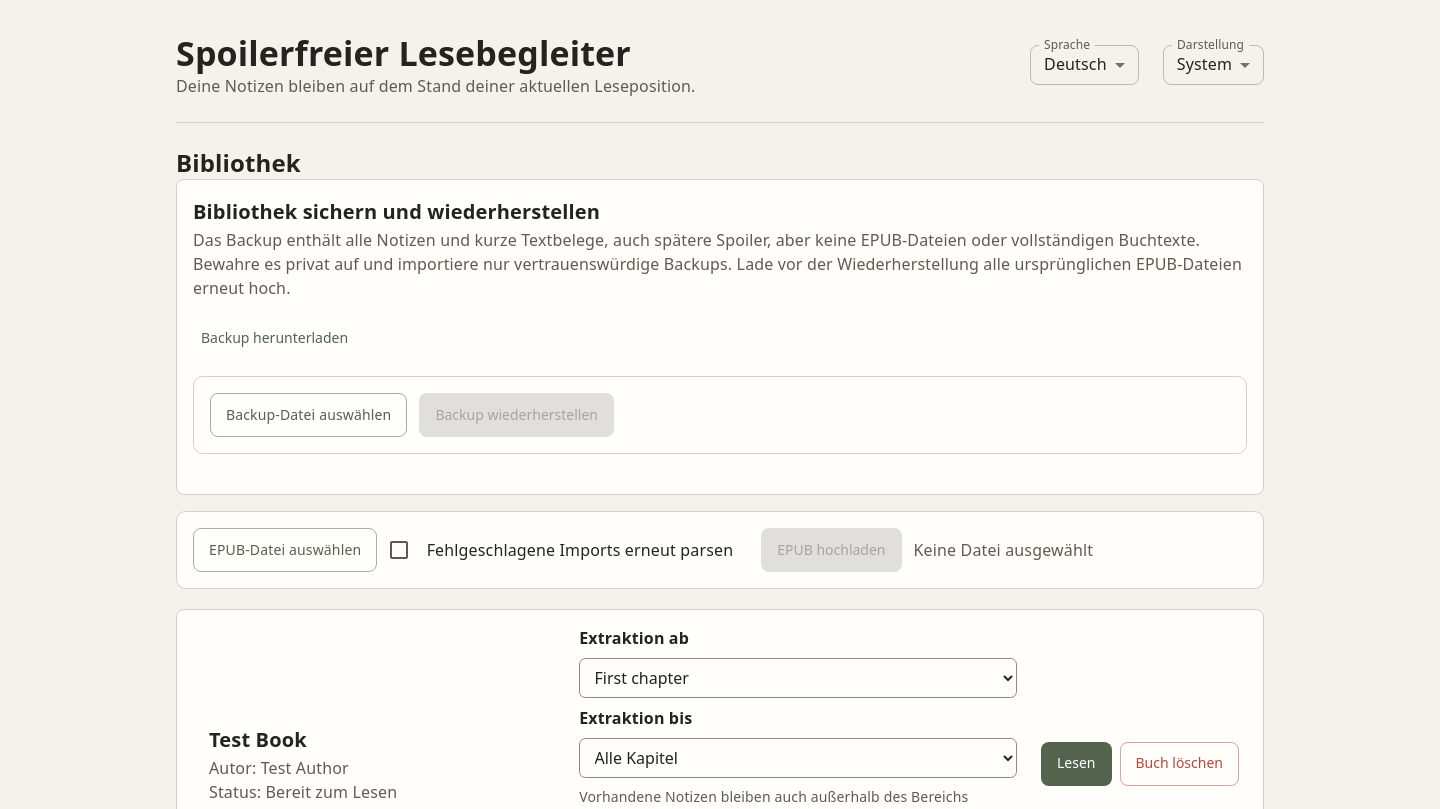
Test case: App › prefills selected text and searches using the selected paragraph position
The image size is (1440, 809).
Click the button "Lesen".
click(1076, 764)  # box [1041, 742, 1112, 786]
(page scrolled)
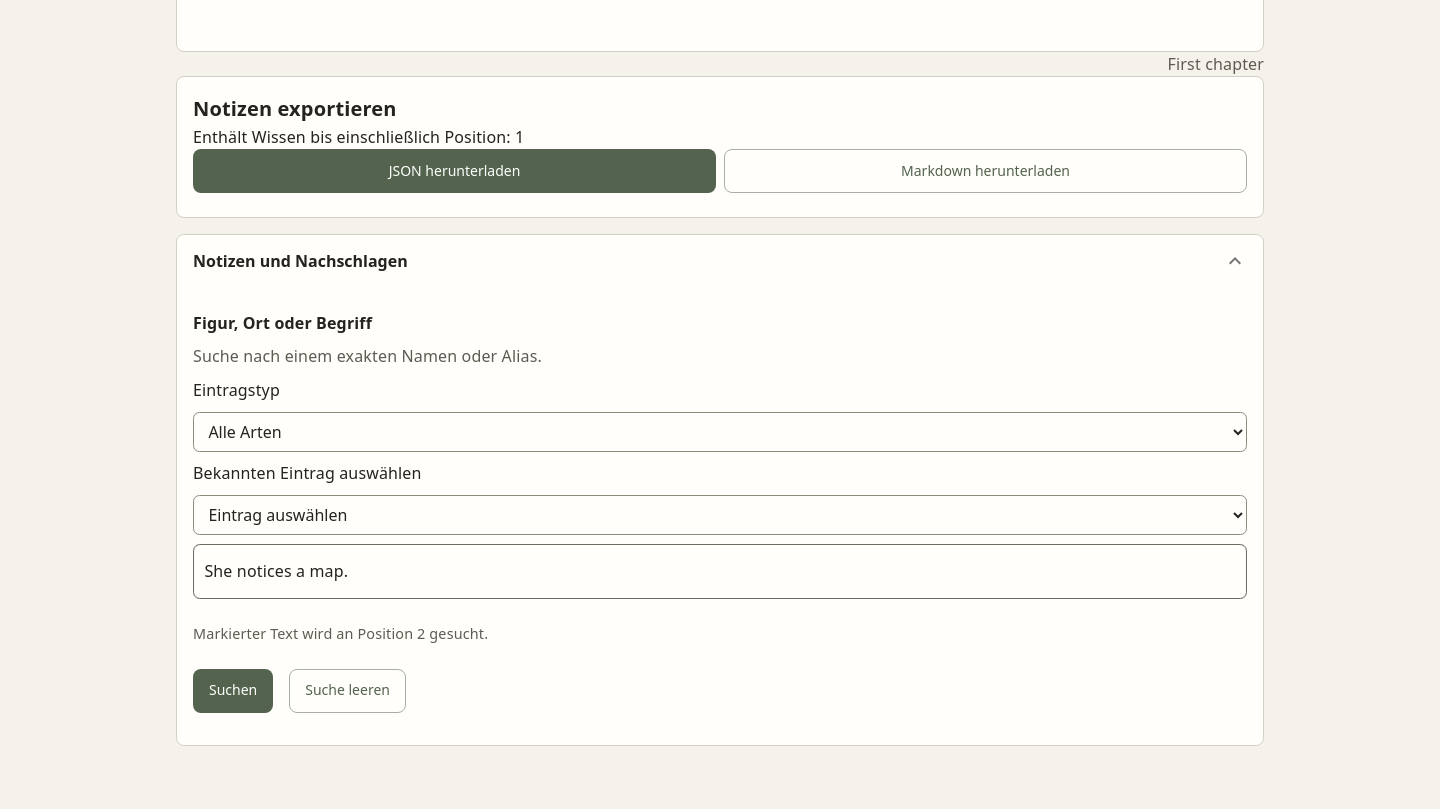
Expected: the search field labelled "Figur, Ort oder Begriff" holds "She notices a map.", [193, 544, 1247, 599]
Expected: the text "Markierter Text wird an Position 2 gesucht." is shown, [193, 624, 488, 643]
Click the button "Suchen".
click(233, 691)  # box [193, 669, 273, 713]
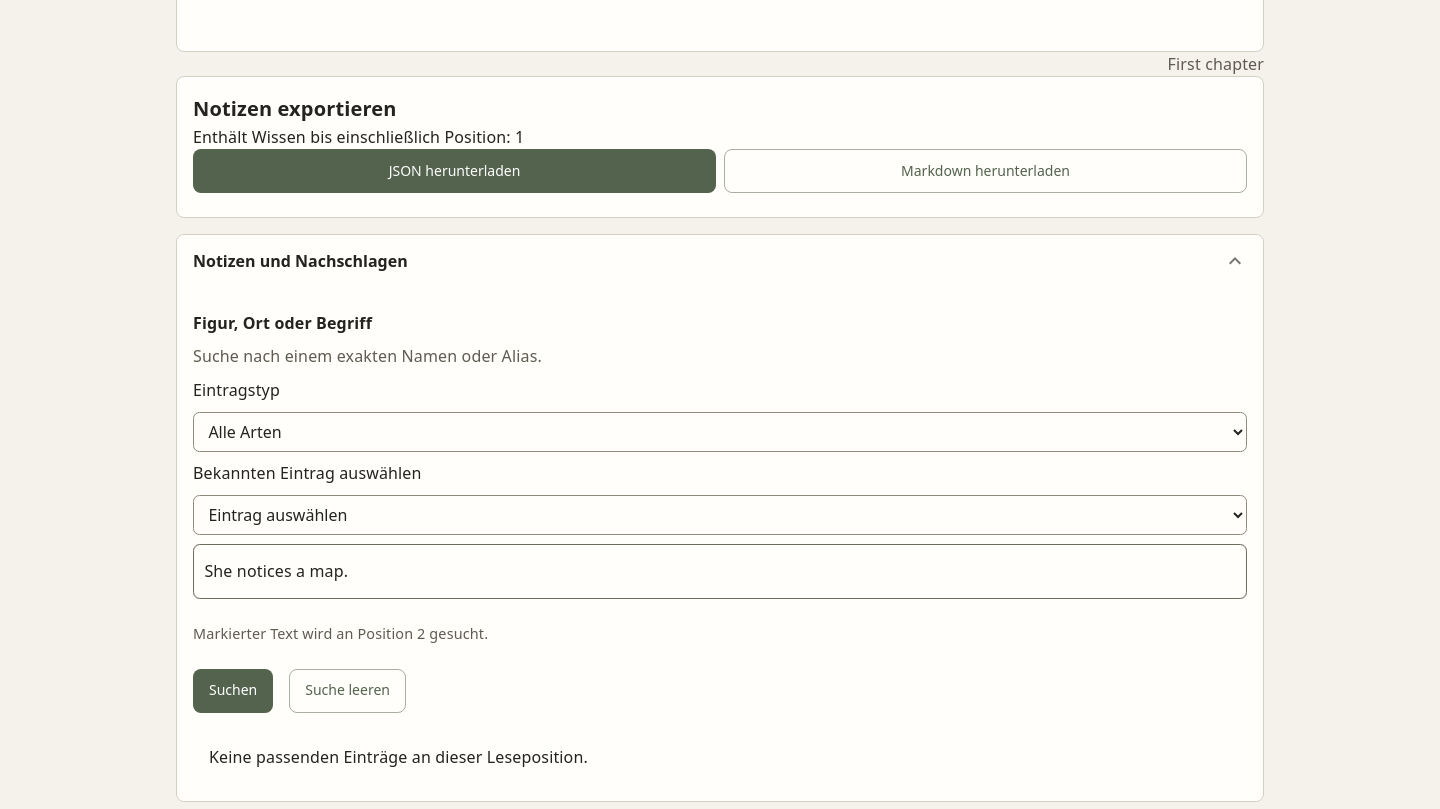
Expected: the text "Keine passenden Einträge an dieser Leseposition." is shown, [193, 729, 1247, 785]
